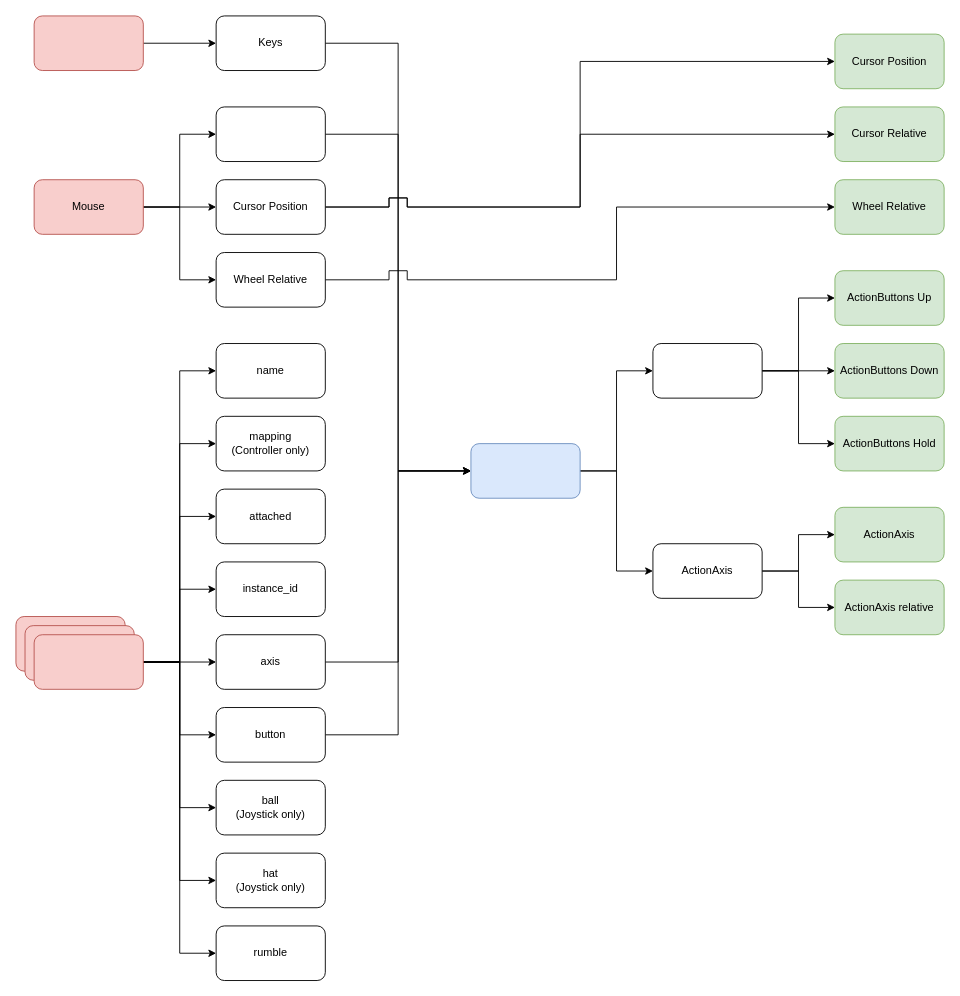
Some shapes in this 960 by 996 pixel diagram are drawn without their labels. Here are the shapes that lost their labels. From the top down, the box of each, then its label:
(33, 15, 143, 71): KeyBoard
(215, 106, 325, 162): Buttons
(652, 343, 762, 398): ActionButtons
(470, 443, 580, 498): Rebind Matrix
(33, 634, 143, 689): GameController (JoyStick)
